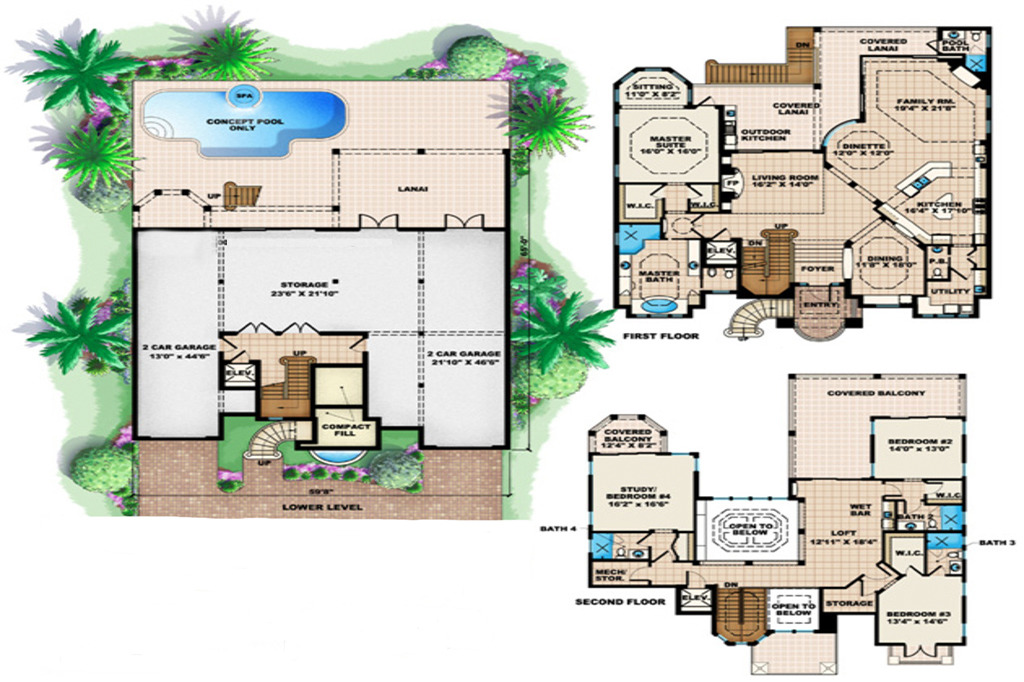door: (438, 209, 492, 231), (279, 317, 327, 339), (352, 212, 405, 231), (860, 560, 901, 582), (902, 639, 939, 662), (875, 476, 907, 499), (236, 318, 276, 334), (920, 478, 949, 499), (342, 331, 366, 355), (628, 564, 652, 584), (904, 495, 926, 516), (927, 561, 949, 582), (684, 566, 708, 585), (684, 179, 704, 200), (903, 561, 925, 580), (648, 179, 665, 201), (220, 333, 237, 354)
large_sink: (968, 24, 988, 52), (612, 539, 632, 561), (944, 547, 963, 558)
small_sink: (893, 516, 922, 535), (620, 253, 638, 274), (948, 25, 965, 44), (685, 256, 701, 276), (703, 265, 721, 278), (932, 244, 951, 254)
stairs: (696, 22, 827, 85), (738, 224, 802, 300), (258, 345, 316, 418), (243, 417, 312, 467), (716, 583, 770, 643), (721, 297, 792, 340), (216, 178, 276, 214)
